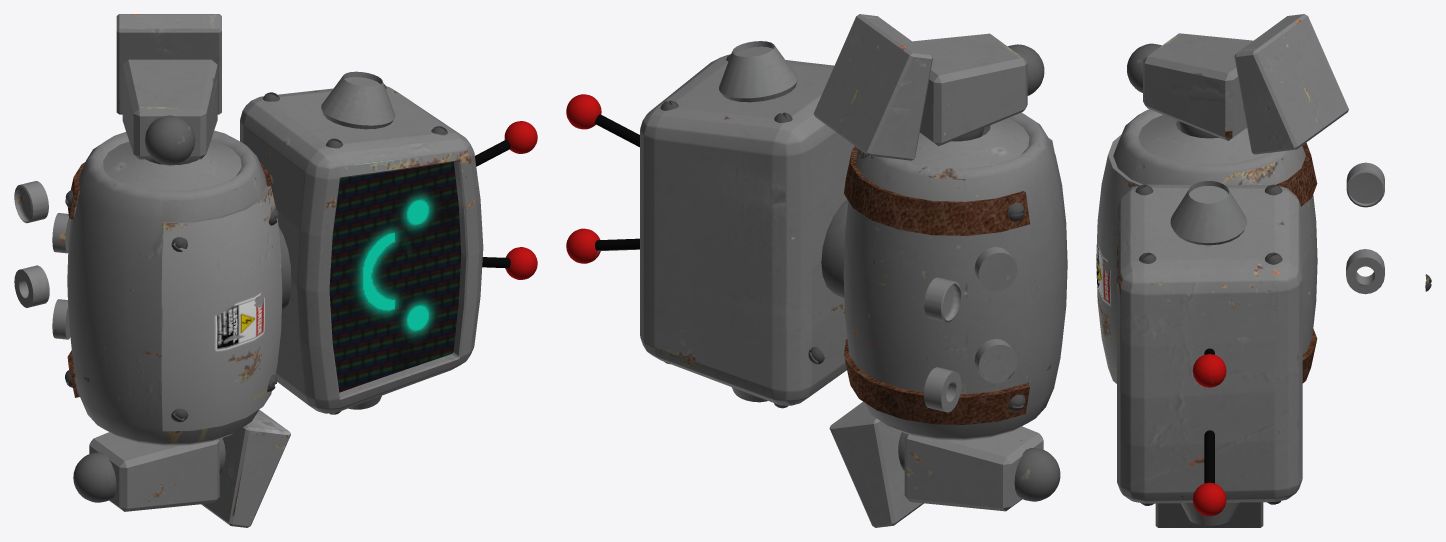
Rendered from arrietty rocket model.fbx.
The picture shows the model from 3 angles, left to right: view 1: azimuth 30°, elevation 25°; view 2: azimuth 150°, elevation 25°; view 3: azimuth 270°, elevation 25°; orthographic projection. The views are drawn at different scales.
Visible parts, largest first — view 1: Robot; view 2: Robot; view 3: Robot.
Part boxes in pixels (x1,y1,x2,y2): Robot: [14, 14, 537, 527]; Robot: [566, 14, 1067, 527]; Robot: [1096, 14, 1431, 527].
Size of the model in its own units: 122 by 121 by 75.69.
